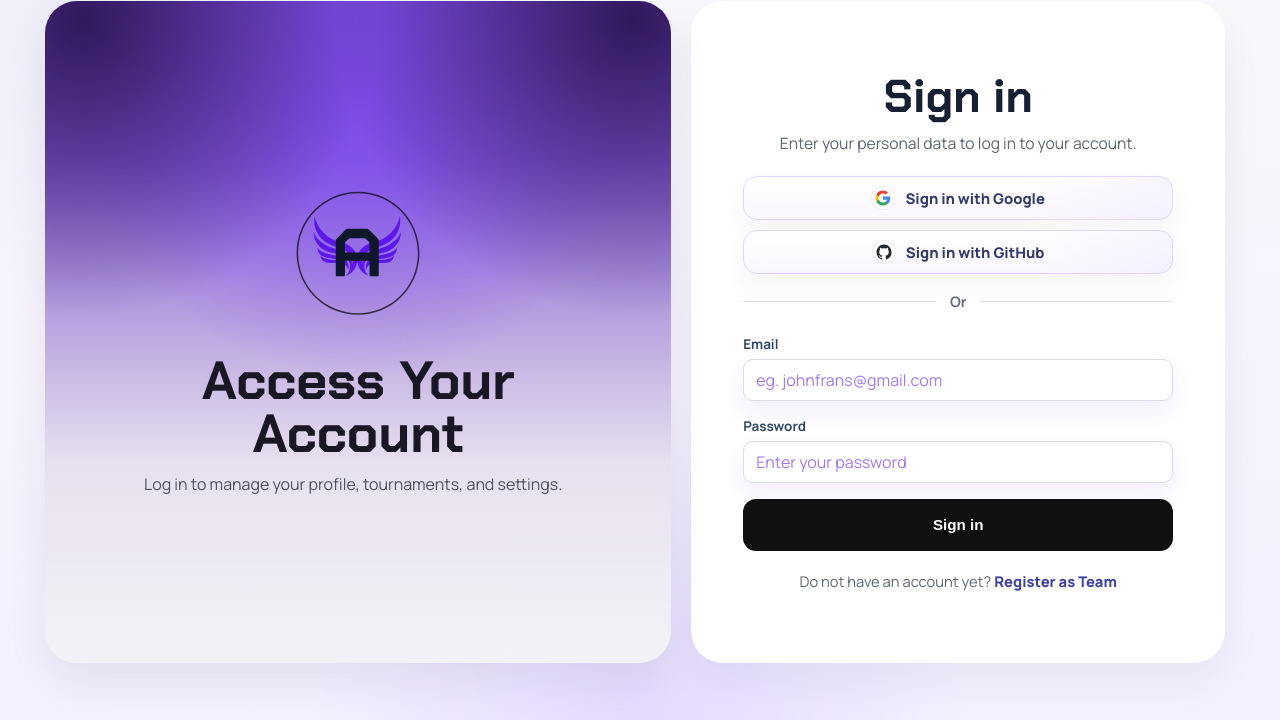
LoginPage › shows blocked account message for blocked user login
This screenshot has width=1280, height=720.
Type "blocked@example.com" into the field labelled "Email" at [958, 380], box [743,359,1173,401]
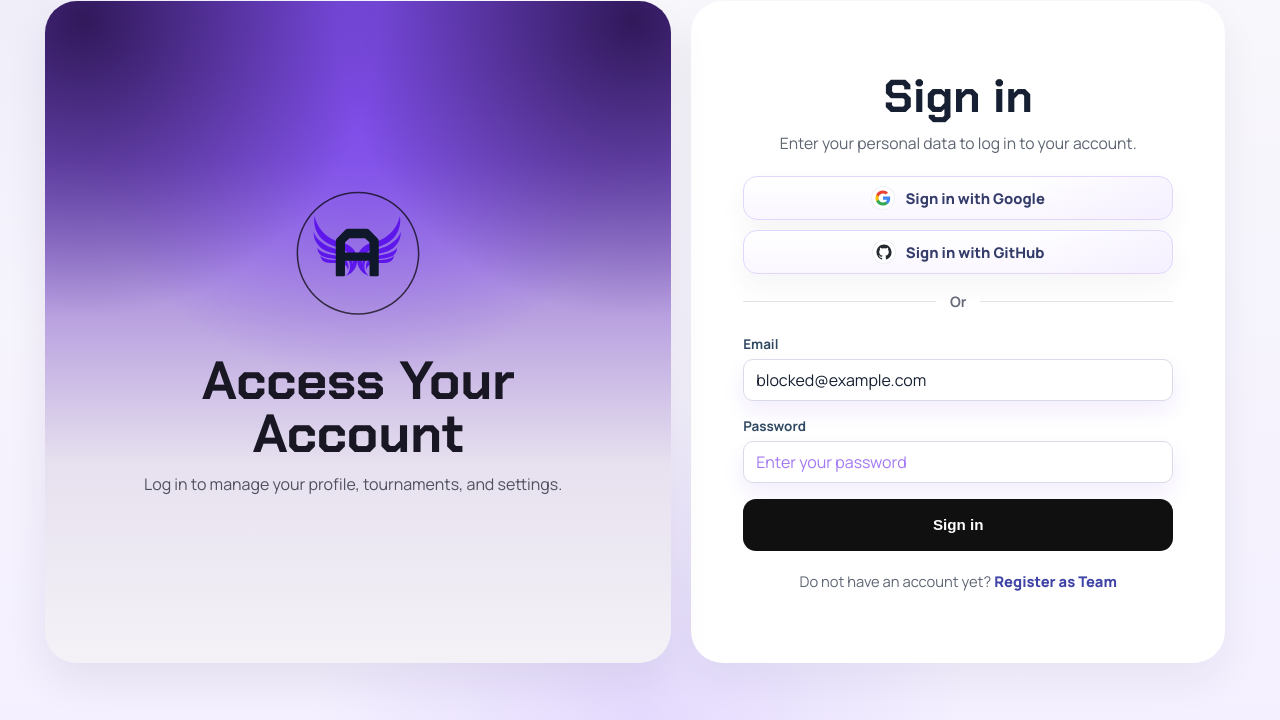
Type "secret123" into the password field labelled "Password" at [958, 462], box [743,441,1173,483]
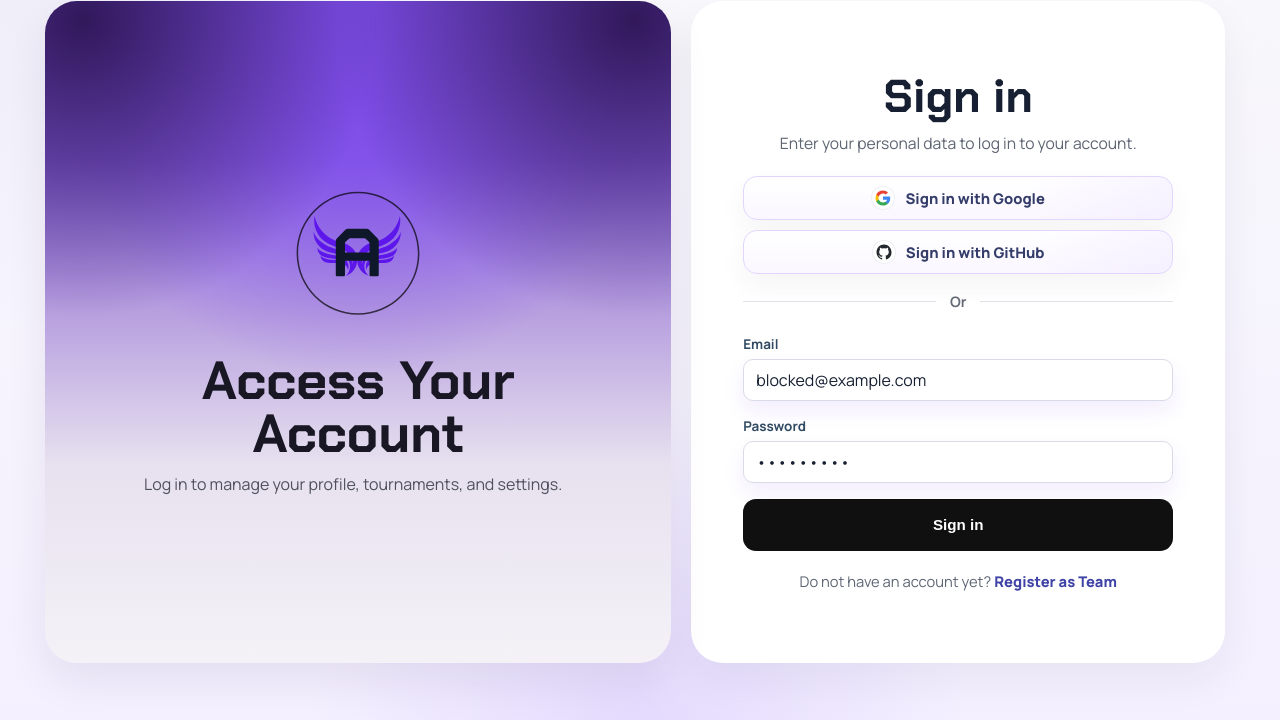
Click the button "Sign in" at [958, 525], box [743,499,1173,551]
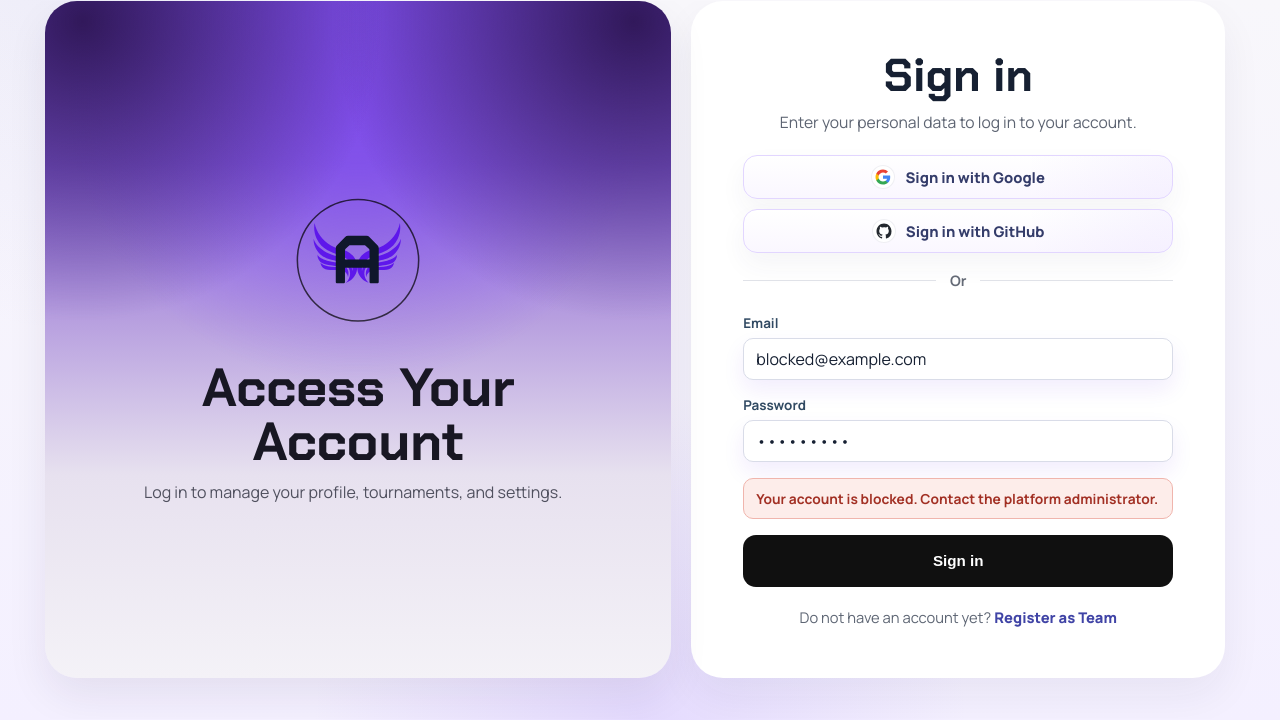
Check: the text "Your account is blocked. Contact the platform administrator." is shown, box [743,478,1173,519]
